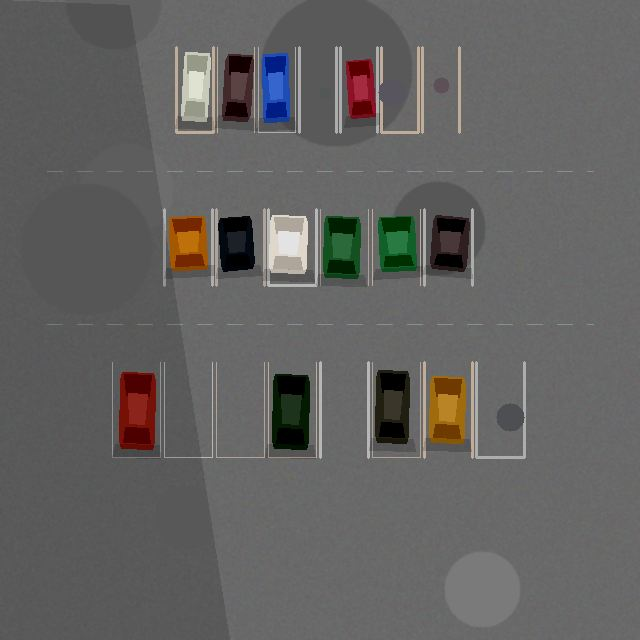space-empty: (164, 362, 212, 457), (216, 362, 264, 457), (320, 362, 368, 457), (476, 362, 524, 457), (299, 47, 336, 132), (381, 47, 418, 132), (422, 47, 459, 132)
space-occupied: (112, 362, 160, 457), (268, 362, 316, 457), (372, 362, 420, 457), (424, 362, 472, 457), (164, 209, 212, 285), (216, 209, 264, 285), (268, 209, 316, 285), (320, 209, 368, 285), (372, 209, 420, 285), (424, 209, 472, 285), (176, 47, 213, 132), (217, 47, 254, 132), (258, 47, 295, 132), (340, 47, 377, 132)
